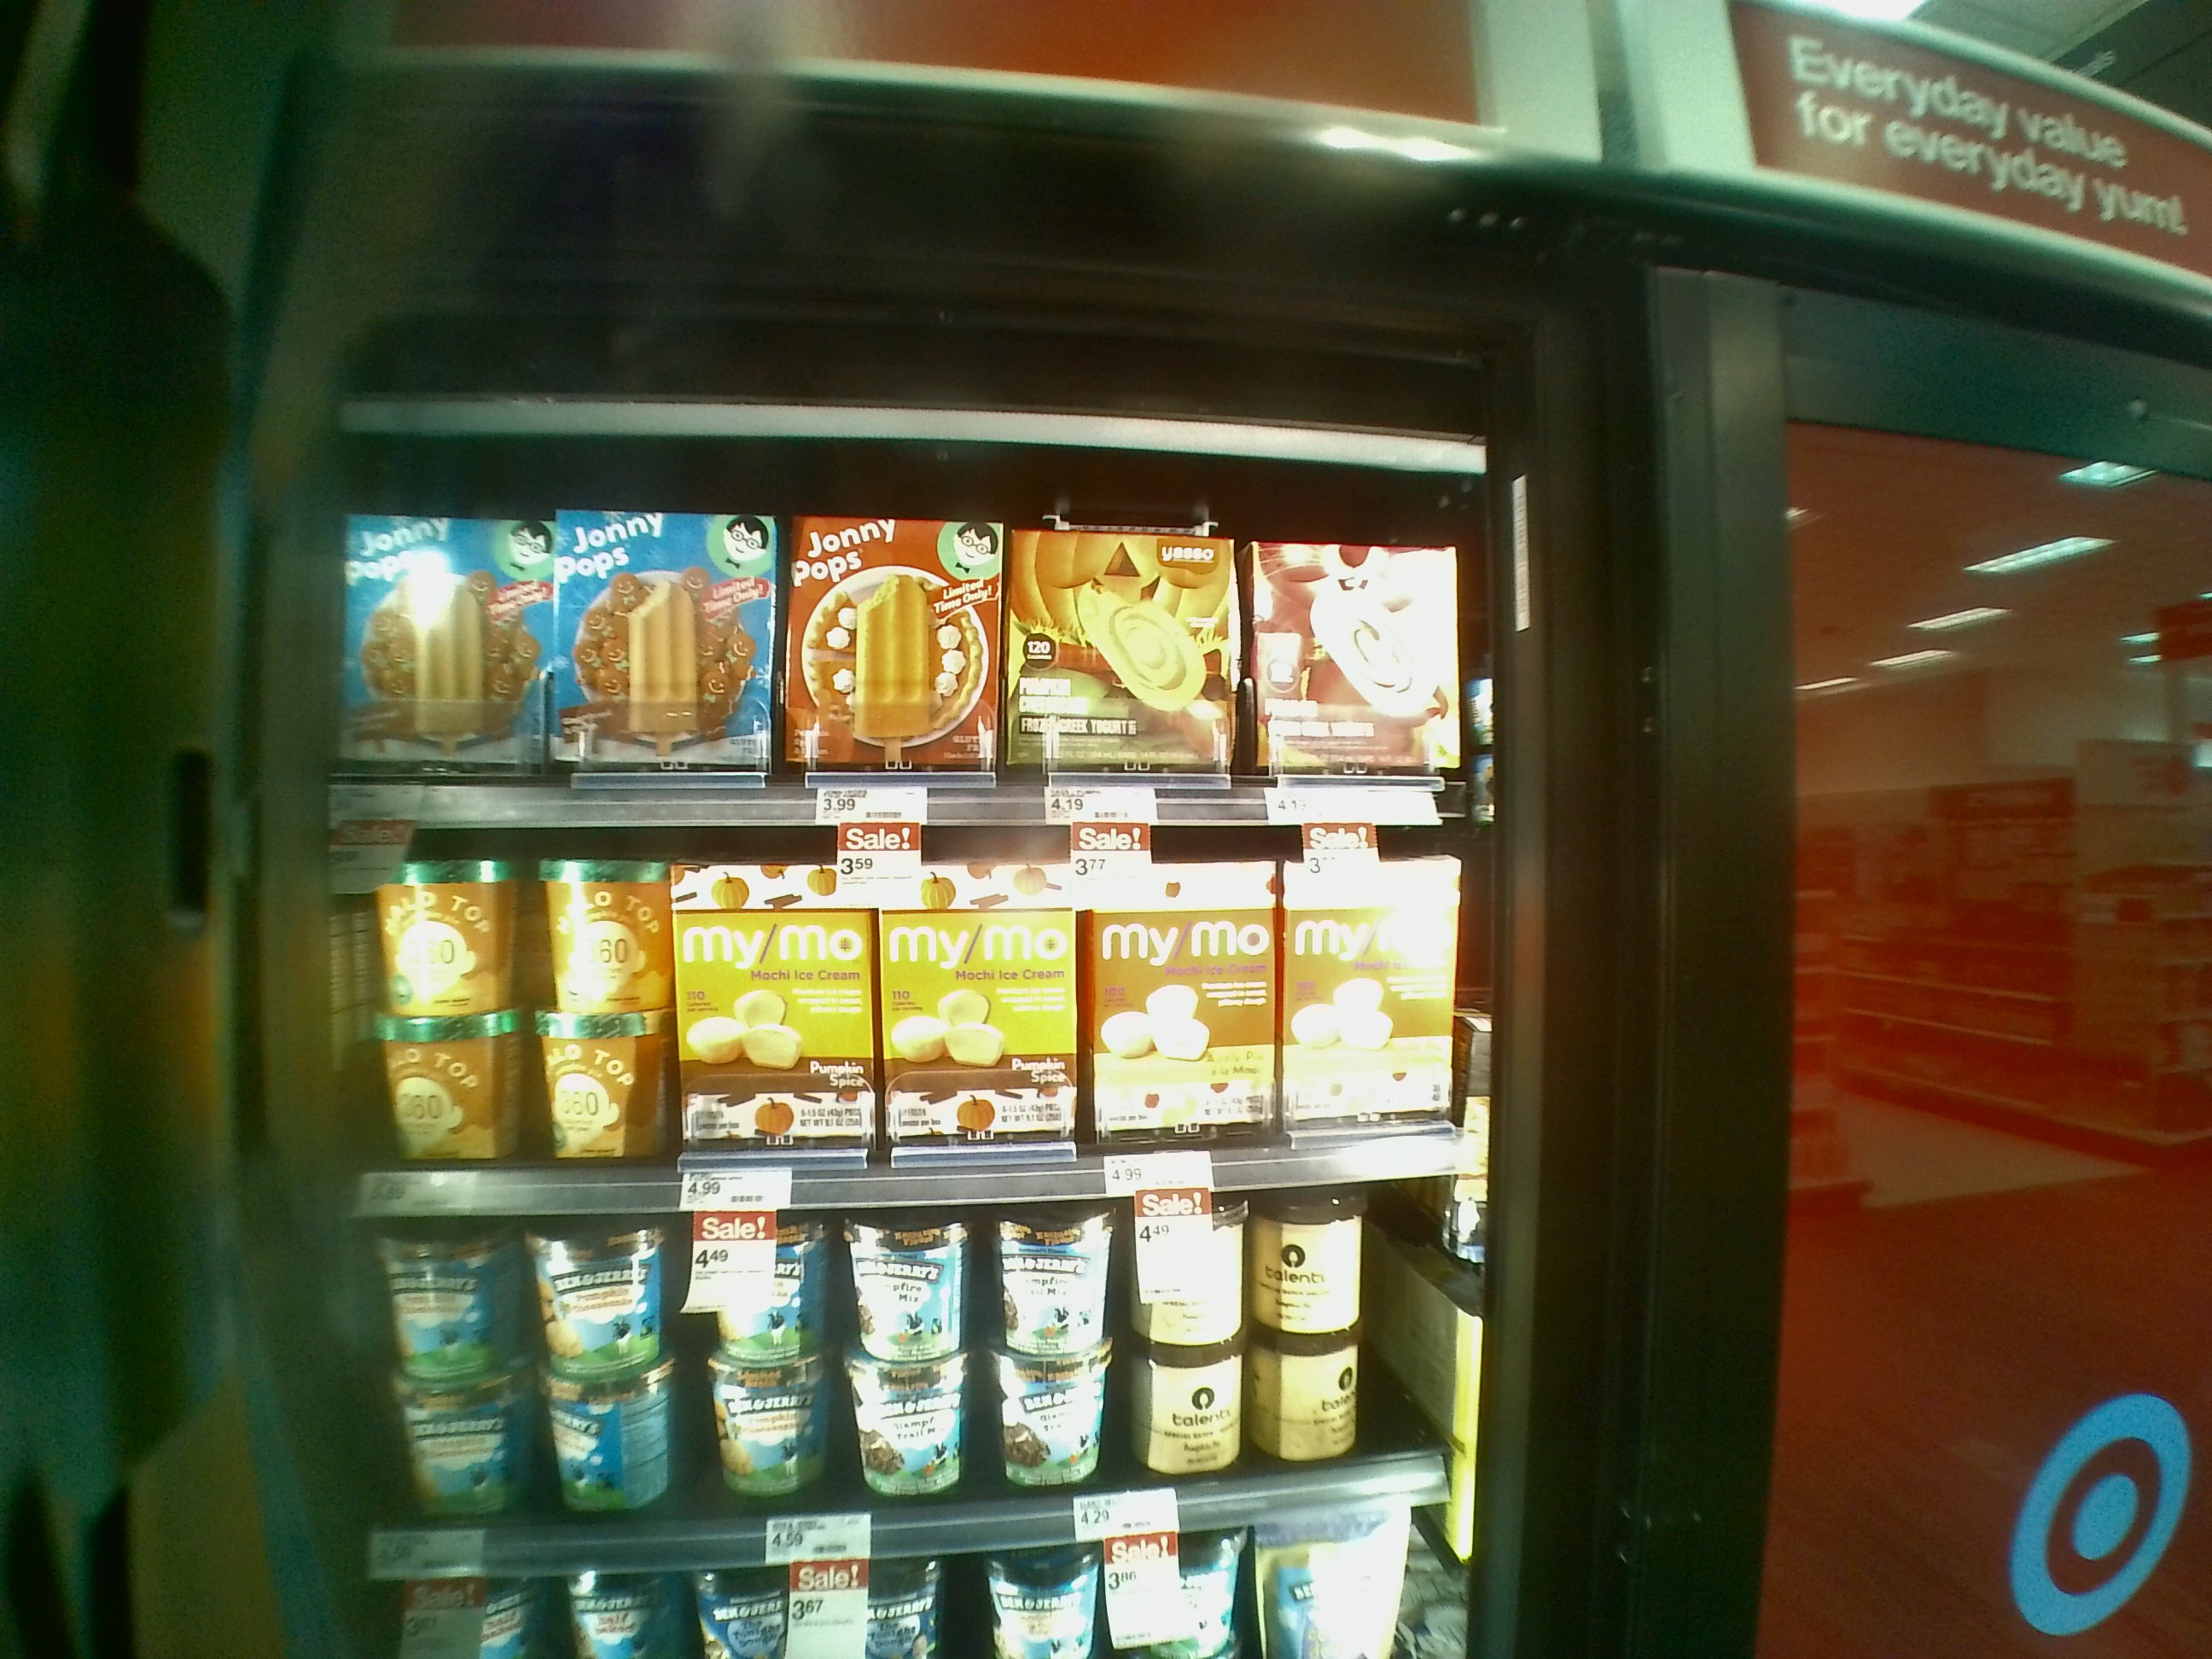shelf: (327, 798, 1479, 1164), (308, 444, 1468, 802), (334, 1176, 1454, 1506)
